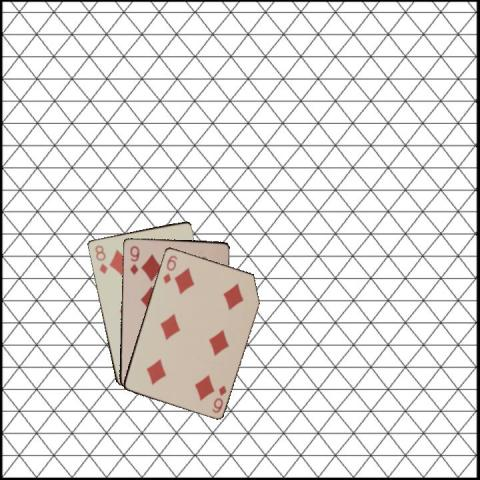6d: (160, 252, 179, 285), (209, 382, 228, 414)
8d: (91, 242, 109, 275)
9d: (127, 243, 140, 276)
